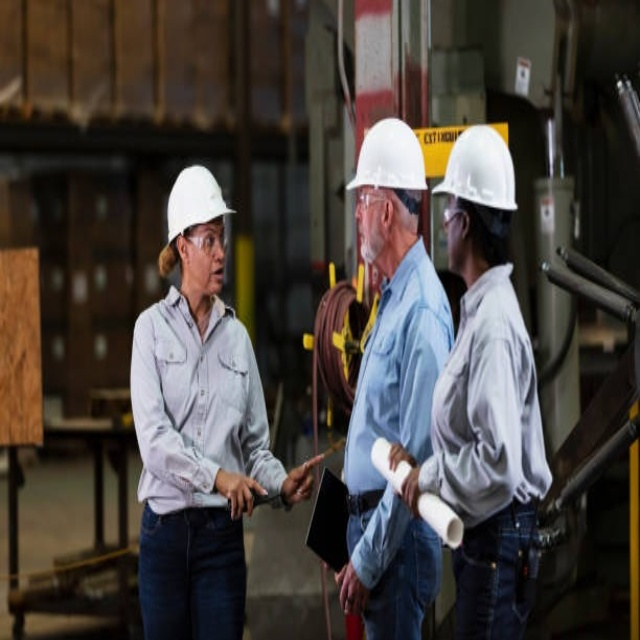Gafas: (185, 231, 229, 254), (393, 188, 422, 216), (355, 191, 391, 210), (442, 209, 465, 231)
Sin_guantes: (217, 469, 268, 518), (285, 452, 328, 505), (334, 558, 368, 615), (387, 441, 416, 475)
Sin_mascara: (357, 216, 374, 262), (207, 261, 225, 285)
